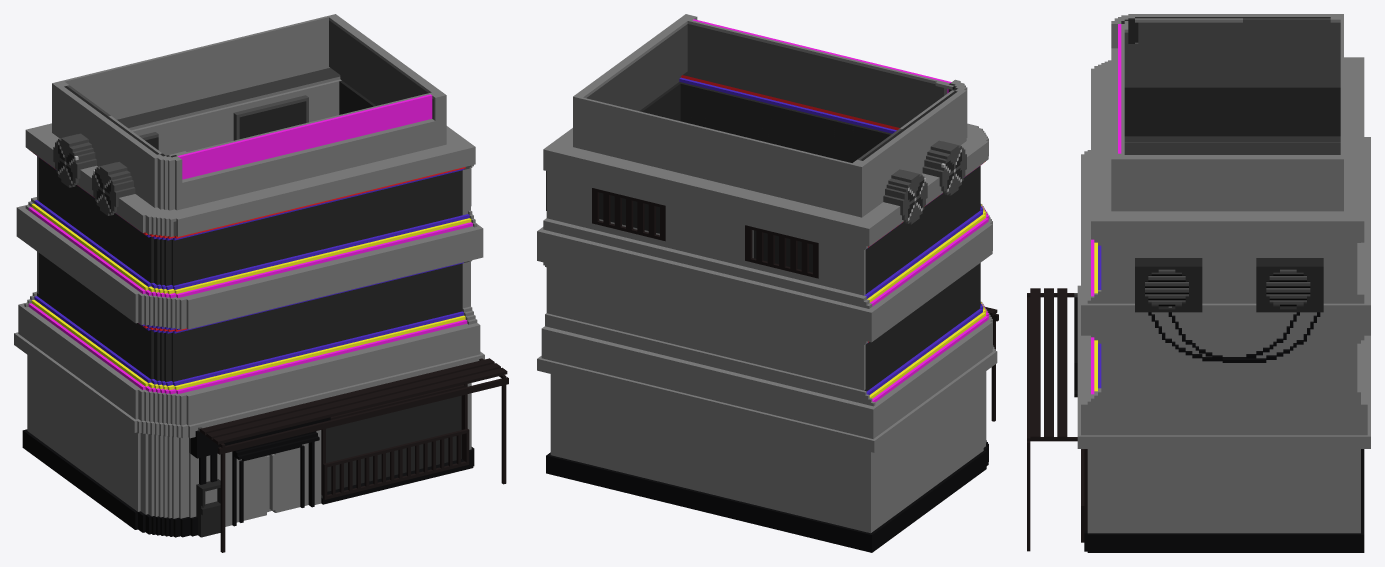
File: Map3 (p1)-3.obj
3 renders of one model, left to right at view 1: azimuth 30°, elevation 25°; view 2: azimuth 150°, elevation 25°; view 3: azimuth 270°, elevation 25°, orthographic. The views are drawn at different scales.
Bounding box in the file's own units: 12.4 × 12.6 × 10.2.
Materials: 1 (1 with a texture image).
